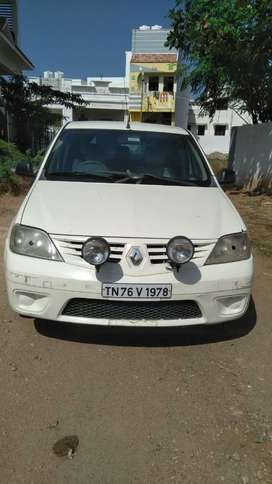TN76V1978: (101, 283, 171, 299)
